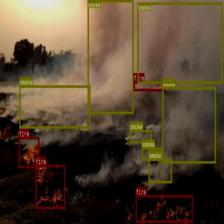fire: (135, 195, 193, 222), (35, 164, 65, 209), (19, 136, 39, 168), (133, 81, 164, 91)
smoke: (137, 2, 222, 83), (87, 0, 133, 113), (162, 87, 216, 163), (19, 85, 90, 128), (148, 158, 172, 182), (130, 129, 152, 143), (142, 147, 162, 160)
